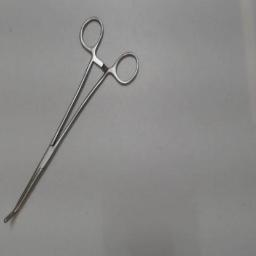Lahey Forceps: (2, 12, 144, 228)
